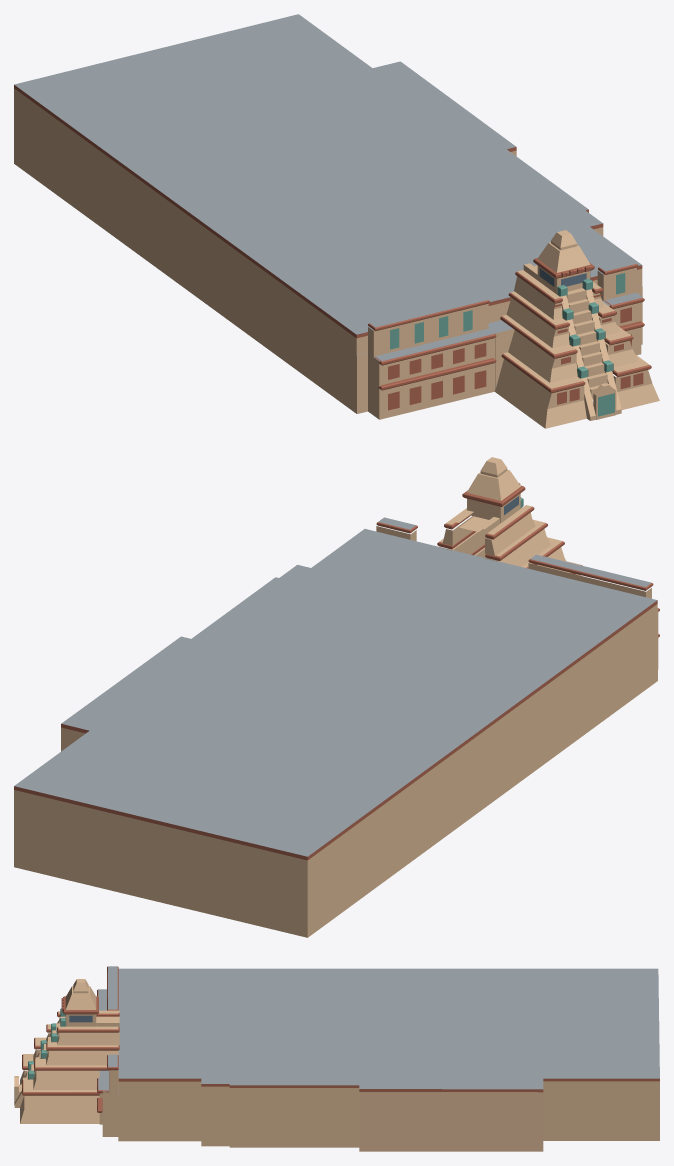
The model's file is wdw-epcot-mexico-pyramid.glb.
The picture shows the model from 3 angles, top to bottom: view 1: azimuth 30°, elevation 25°; view 2: azimuth 150°, elevation 25°; view 3: azimuth 270°, elevation 25°; orthographic projection. The views are drawn at different scales.
Parts seen in each view (by area): view 1: Mexico Pavilion pyramid; view 2: Mexico Pavilion pyramid; view 3: Mexico Pavilion pyramid.
Boxes of the visible parts, bbox=[...] form: Mexico Pavilion pyramid: bbox=[14, 14, 659, 428]; Mexico Pavilion pyramid: bbox=[14, 457, 659, 937]; Mexico Pavilion pyramid: bbox=[14, 966, 659, 1151].
Bounding box in the file's own units: 53.9 × 25.2 × 122.
